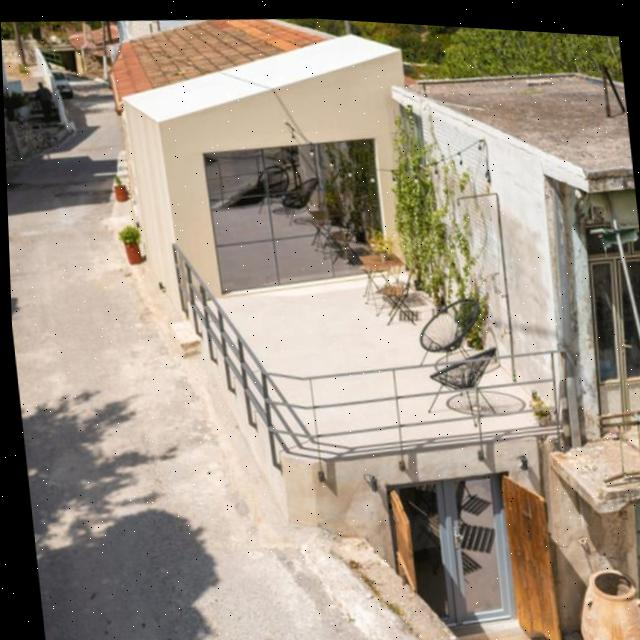building: (386, 39, 640, 640), (98, 6, 419, 309)
